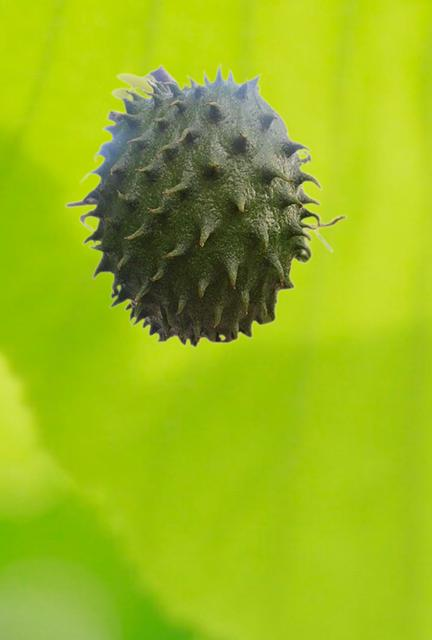guyabano: (64, 61, 347, 348)
